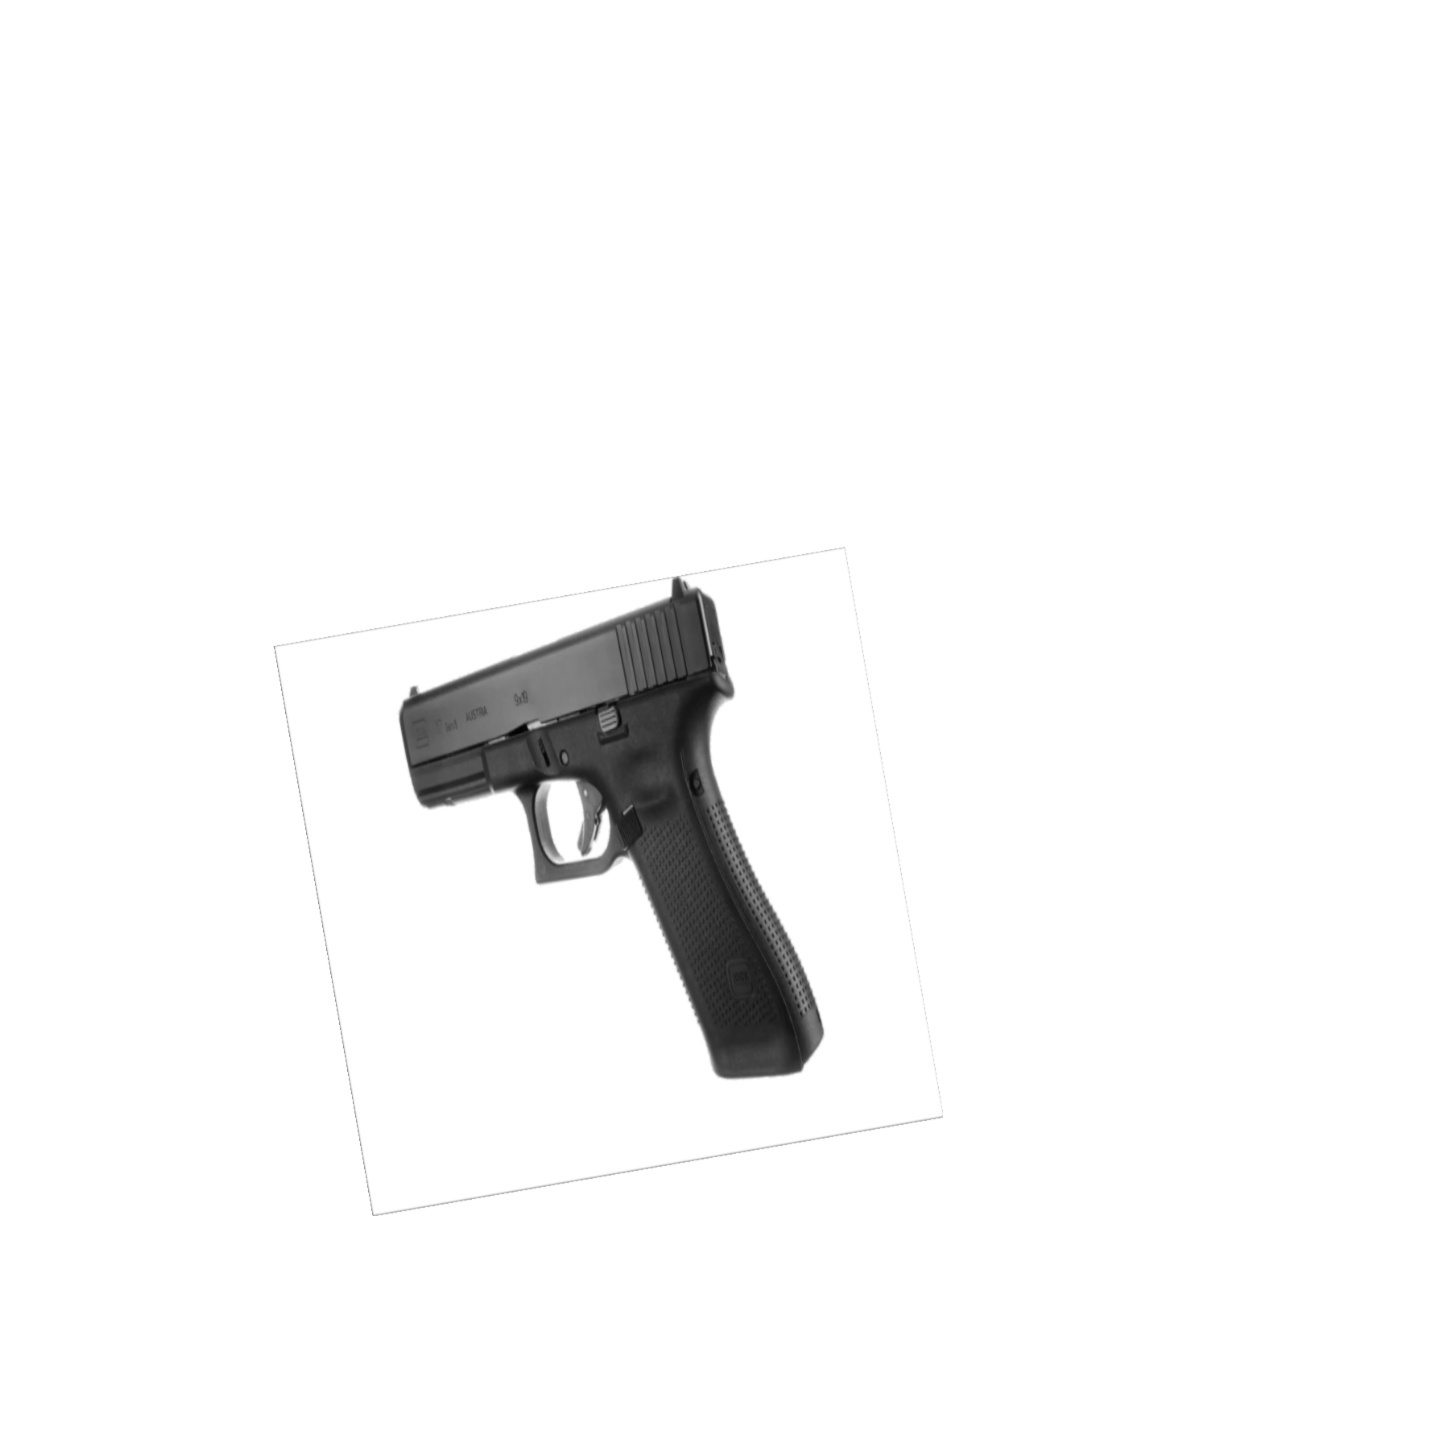gun: (396, 575, 845, 1088)
